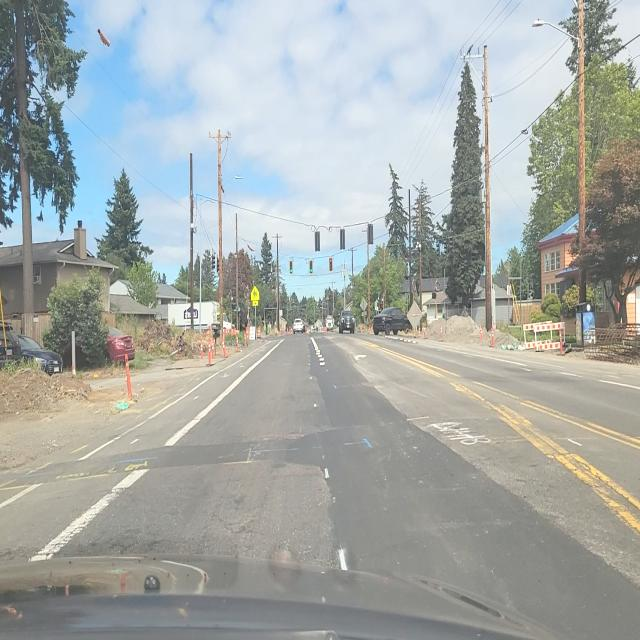car: (0, 327, 65, 375), (105, 328, 136, 367), (373, 308, 411, 336), (338, 310, 355, 334), (293, 318, 305, 334), (326, 316, 334, 331)
crosswalk-sign: (251, 286, 259, 306)
delineator: (125, 355, 134, 402), (208, 341, 214, 366), (221, 334, 227, 358), (120, 570, 126, 592), (236, 332, 242, 352), (560, 331, 564, 355), (212, 332, 216, 356), (200, 340, 204, 359), (244, 328, 248, 347), (479, 324, 483, 342), (206, 324, 212, 336), (491, 325, 494, 347), (422, 326, 427, 339), (440, 323, 443, 341), (414, 326, 418, 338), (245, 324, 249, 335), (322, 326, 326, 333), (492, 320, 494, 332), (276, 328, 278, 336)
